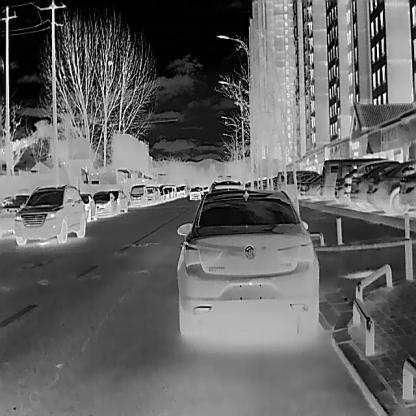car: (176, 189, 318, 337), (14, 184, 85, 244), (366, 160, 415, 212), (0, 194, 29, 236), (319, 158, 339, 196), (103, 188, 127, 213), (92, 193, 117, 216), (79, 192, 97, 221), (128, 185, 147, 207), (304, 176, 322, 194), (146, 185, 157, 203), (189, 186, 203, 199)
